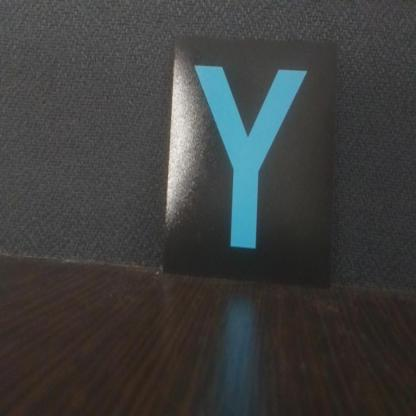y: (176, 44, 331, 279)
